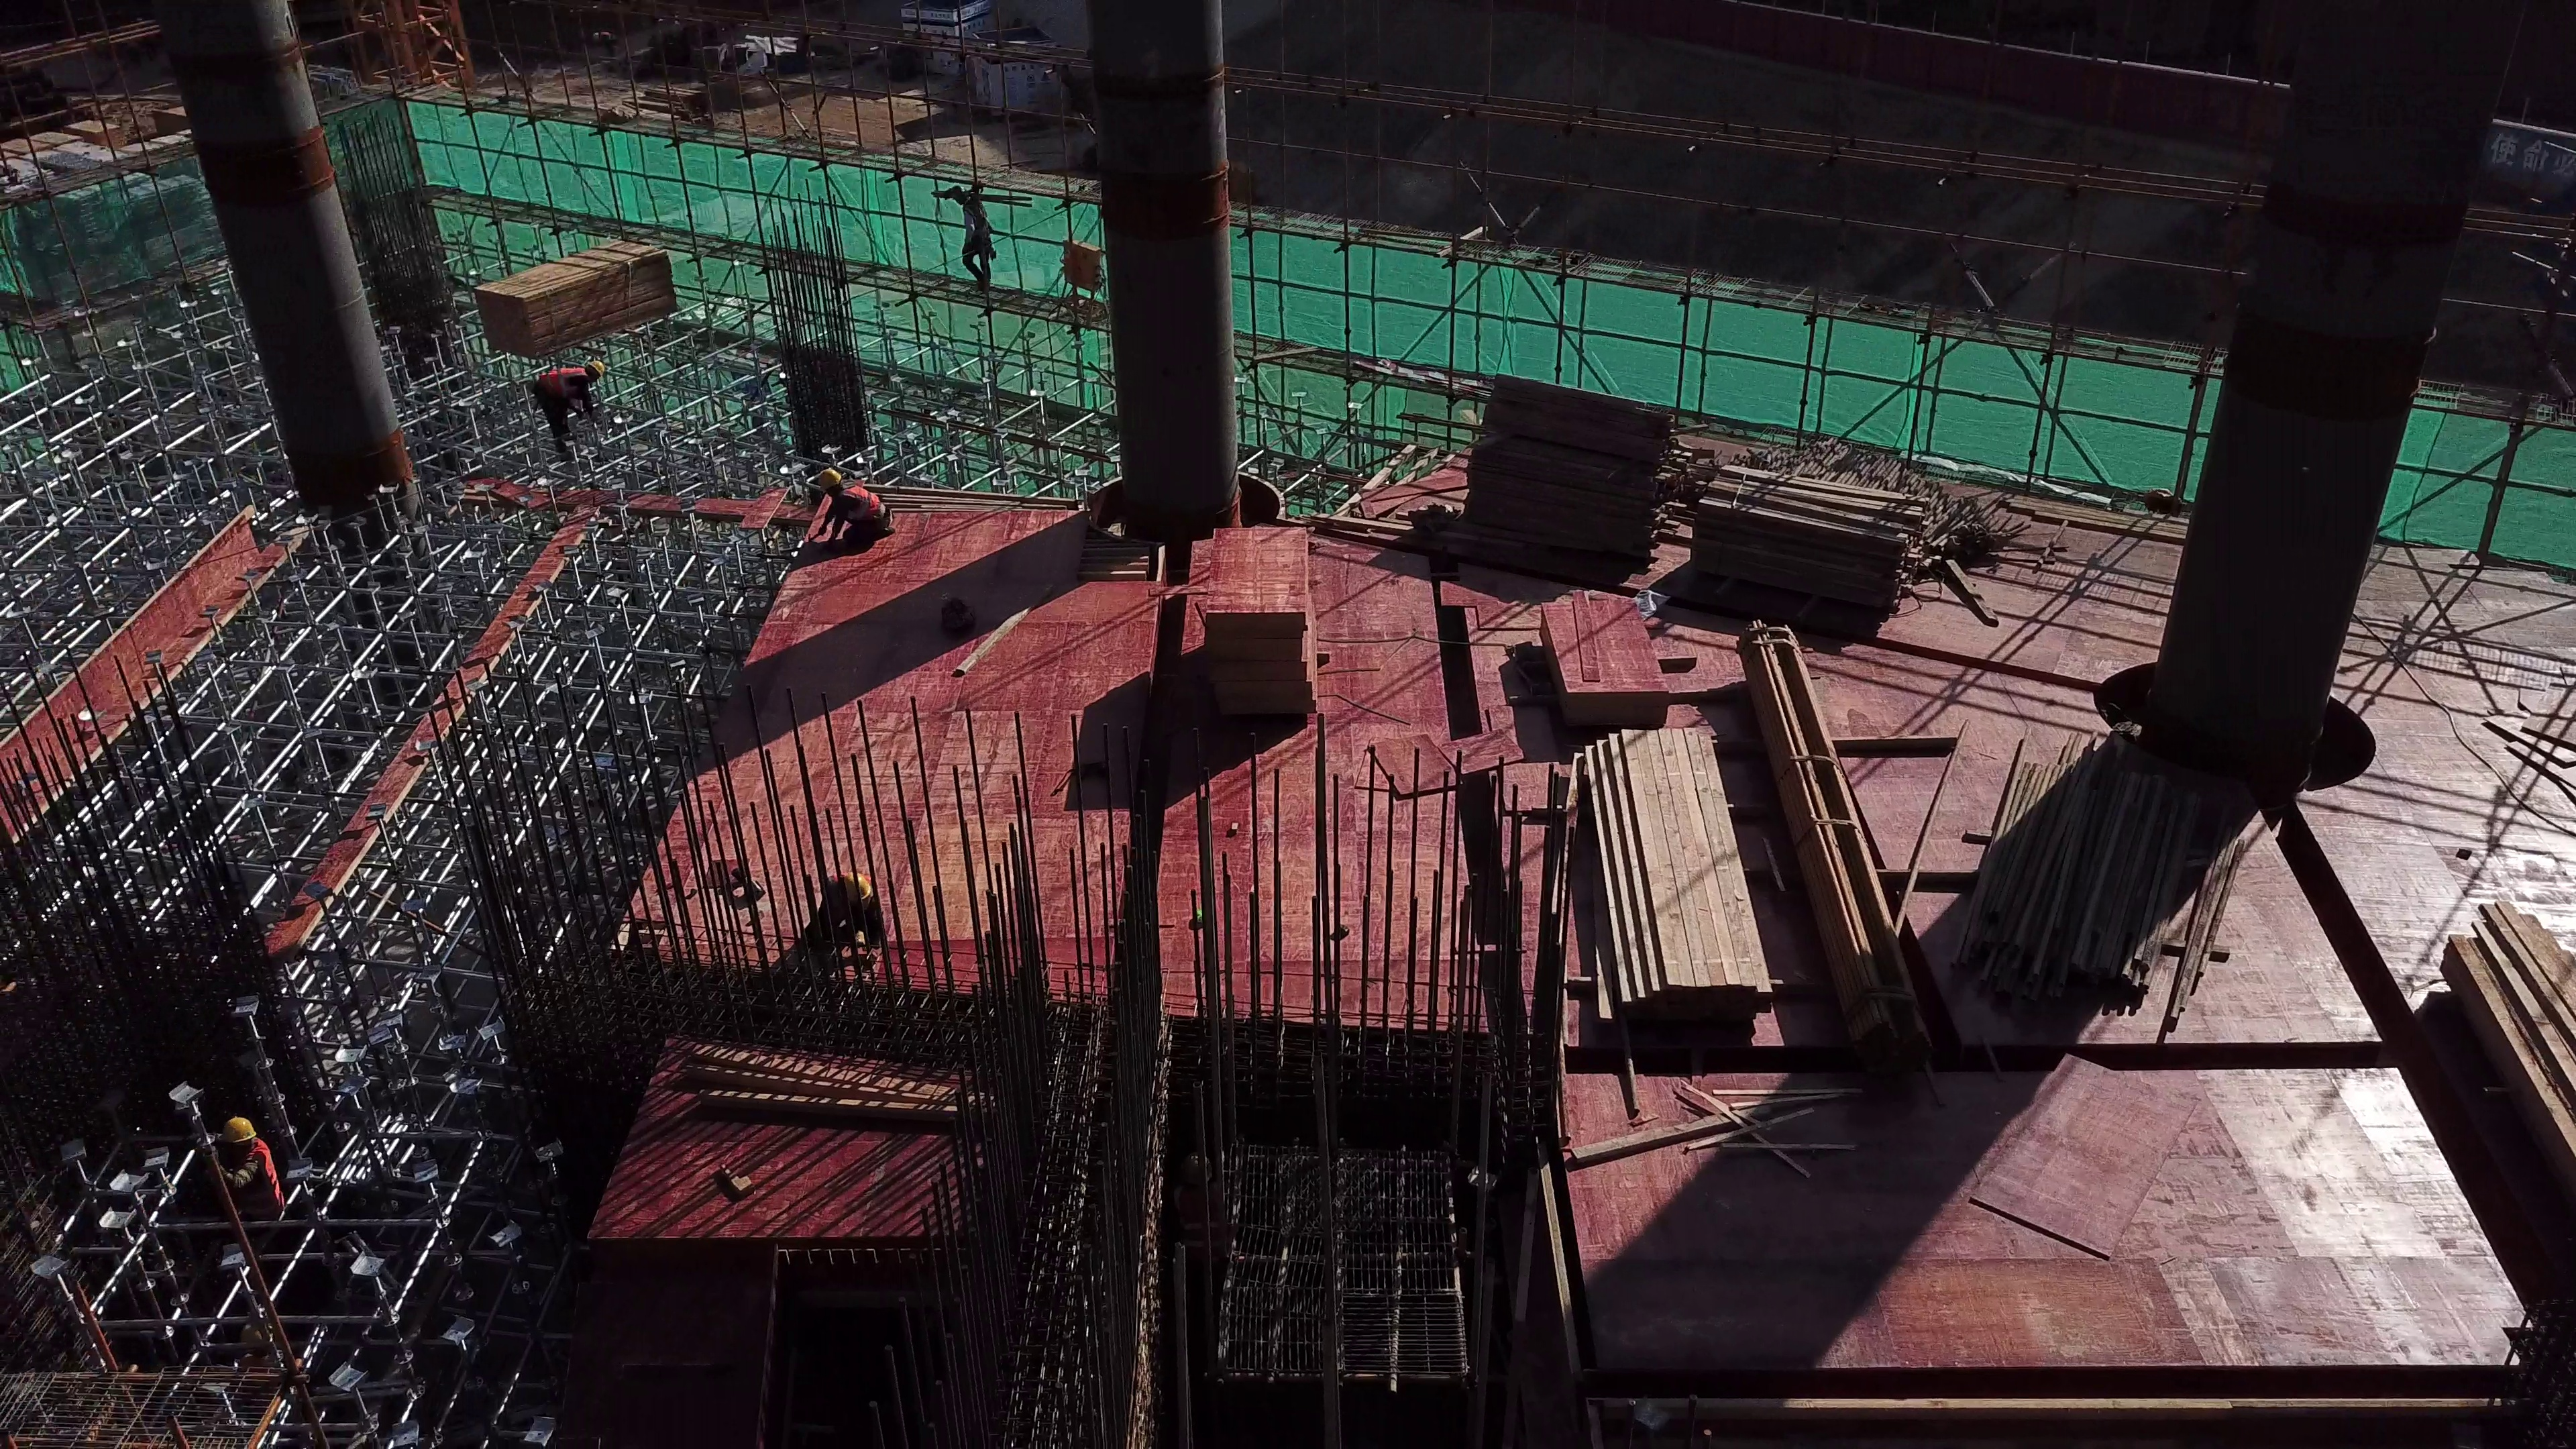board: (1203, 519, 1339, 728), (1534, 588, 1682, 735)
ebox: (1054, 237, 1110, 309)
helmet: (223, 1116, 263, 1147), (840, 871, 870, 901), (818, 465, 842, 486), (586, 359, 606, 374)
person: (197, 1114, 291, 1228), (806, 467, 906, 551), (944, 191, 1004, 311), (535, 359, 614, 449), (817, 877, 886, 948)
scaffold: (1760, 431, 1951, 493)
slogan: (2496, 126, 2576, 189)
vest: (227, 1147, 288, 1210), (837, 483, 891, 533), (535, 366, 592, 405), (961, 199, 992, 253)
wood: (1555, 722, 1786, 1041), (2430, 873, 2574, 1216), (1471, 385, 1691, 581), (1697, 462, 1929, 637), (480, 239, 690, 342)
